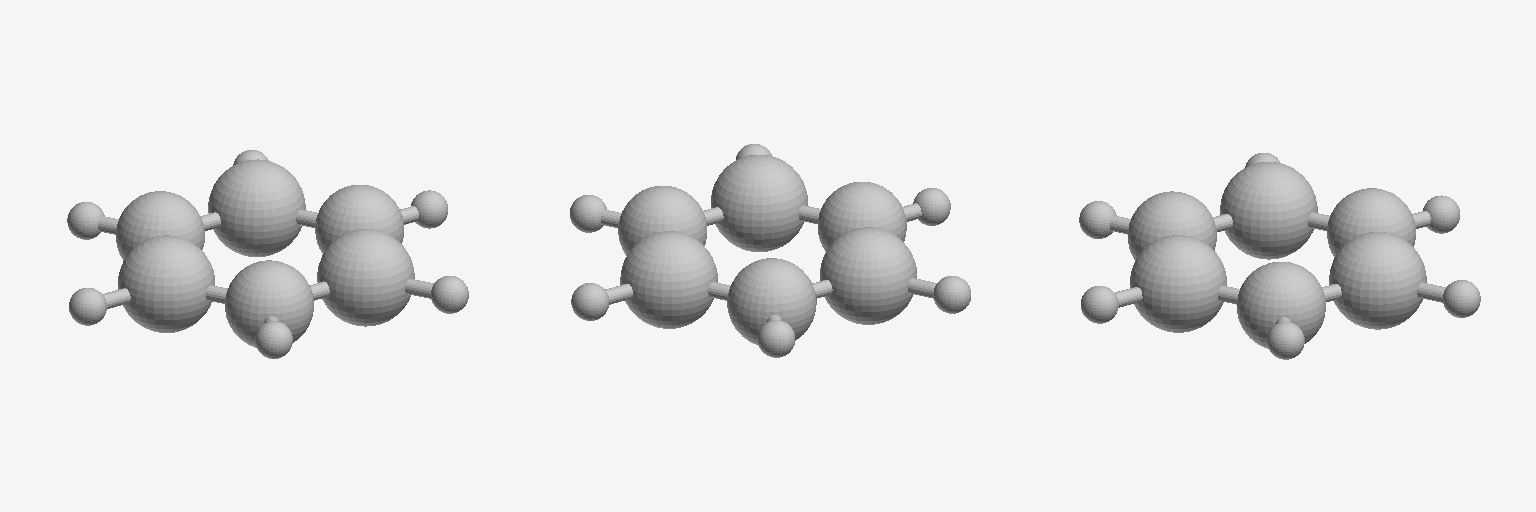
The model's file is Borazine.obj.
3 renders of one model, left to right at view 1: azimuth 30°, elevation 25°; view 2: azimuth 150°, elevation 25°; view 3: azimuth 270°, elevation 25°, orthographic.
Visible parts, largest first — view 1: Boron_ball, Nitrogen_ball.007, Hydrogen_ball.015, Hydrogen_sticks_cylinder.015, Nitrogen_sticks_cylinder.007; view 2: Boron_ball, Nitrogen_ball.007, Hydrogen_ball.015, Hydrogen_sticks_cylinder.015, Nitrogen_sticks_cylinder.007; view 3: Boron_ball, Nitrogen_ball.007, Hydrogen_ball.015, Hydrogen_sticks_cylinder.015, Nitrogen_sticks_cylinder.007, Boron_sticks_cylinder.
Boxes of the visible parts, x1=… form: Boron_ball: x1=118, y1=159, x2=414, y2=332; Nitrogen_ball.007: x1=116, y1=185, x2=403, y2=347; Hydrogen_ball.015: x1=67, y1=150, x2=468, y2=358; Hydrogen_sticks_cylinder.015: x1=98, y1=206, x2=433, y2=322; Nitrogen_sticks_cylinder.007: x1=201, y1=211, x2=323, y2=303; Boron_ball: x1=620, y1=155, x2=916, y2=328; Nitrogen_ball.007: x1=618, y1=182, x2=906, y2=345; Hydrogen_ball.015: x1=570, y1=144, x2=970, y2=357; Hydrogen_sticks_cylinder.015: x1=601, y1=203, x2=936, y2=321; Nitrogen_sticks_cylinder.007: x1=703, y1=207, x2=825, y2=300; Boron_ball: x1=1130, y1=162, x2=1426, y2=332; Nitrogen_ball.007: x1=1128, y1=188, x2=1415, y2=348; Hydrogen_ball.015: x1=1079, y1=153, x2=1480, y2=359; Hydrogen_sticks_cylinder.015: x1=1110, y1=211, x2=1446, y2=323; Nitrogen_sticks_cylinder.007: x1=1213, y1=214, x2=1335, y2=304; Boron_sticks_cylinder: x1=1218, y1=212, x2=1341, y2=302.
Size of the model in its own units: 5.59 by 1.26 by 5.05.